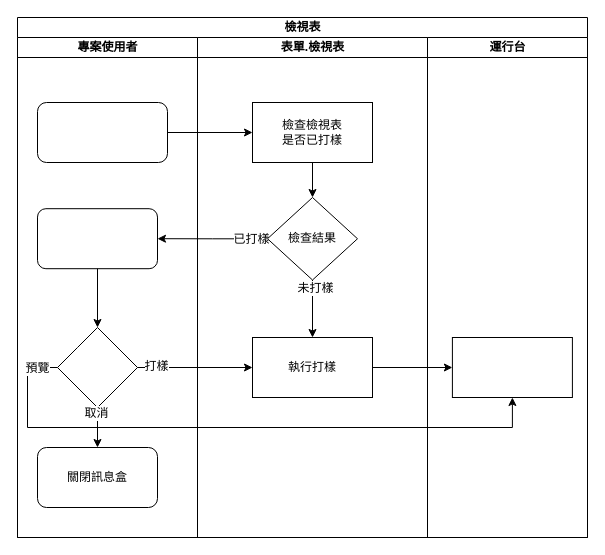
This 605x555 diagram has some shape labels left out. The shapes that lost their labels are listed below. From the top down, each one's centre as x and y in pixels, then its label:
point 102,132: 點擊按鈕.打樣
point 97,238: 彈出詢問訊息 是否 重新打樣
point 97,367: 回覆結果
point 511,367: 檢視表預覽
